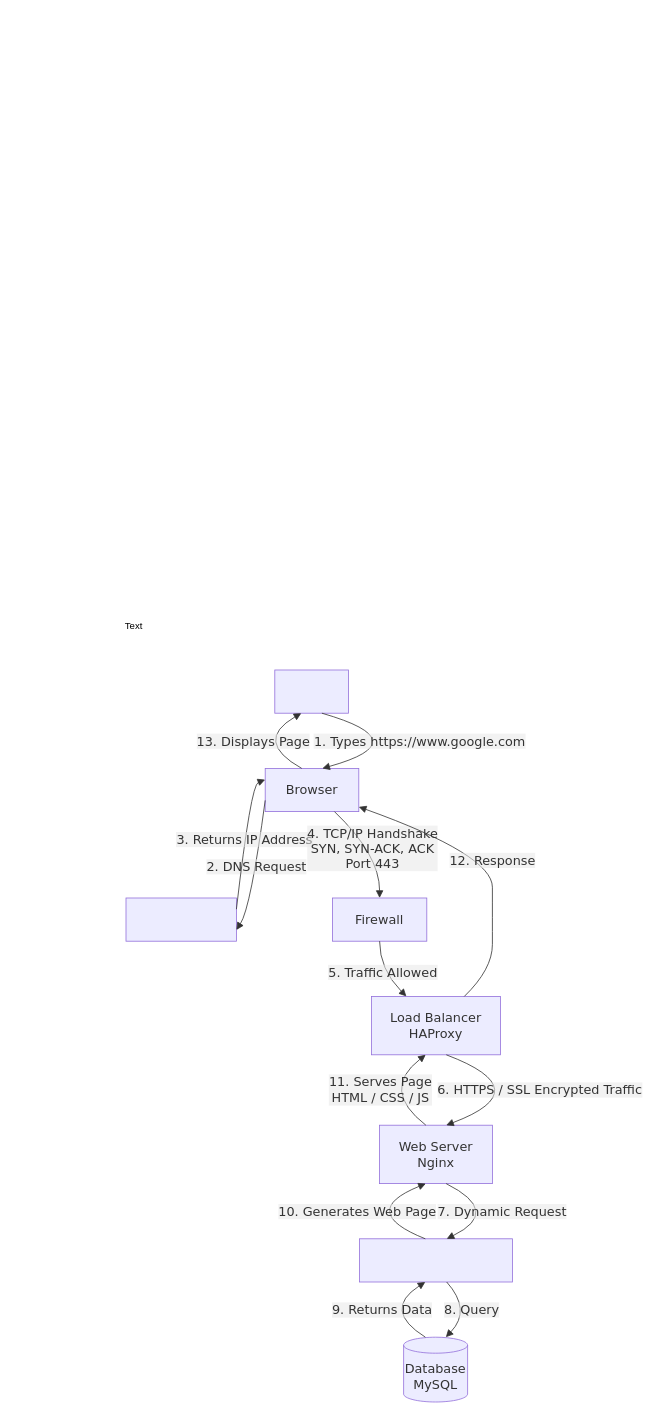
The diagram is 655 pixels wide and 1416 high, and some of its shapes have lost their labels. Each missing label, with the box of its shape:
Application Server: (359, 1238, 512, 1282)
DNS Server: (125, 897, 236, 941)
User: (274, 669, 348, 713)
